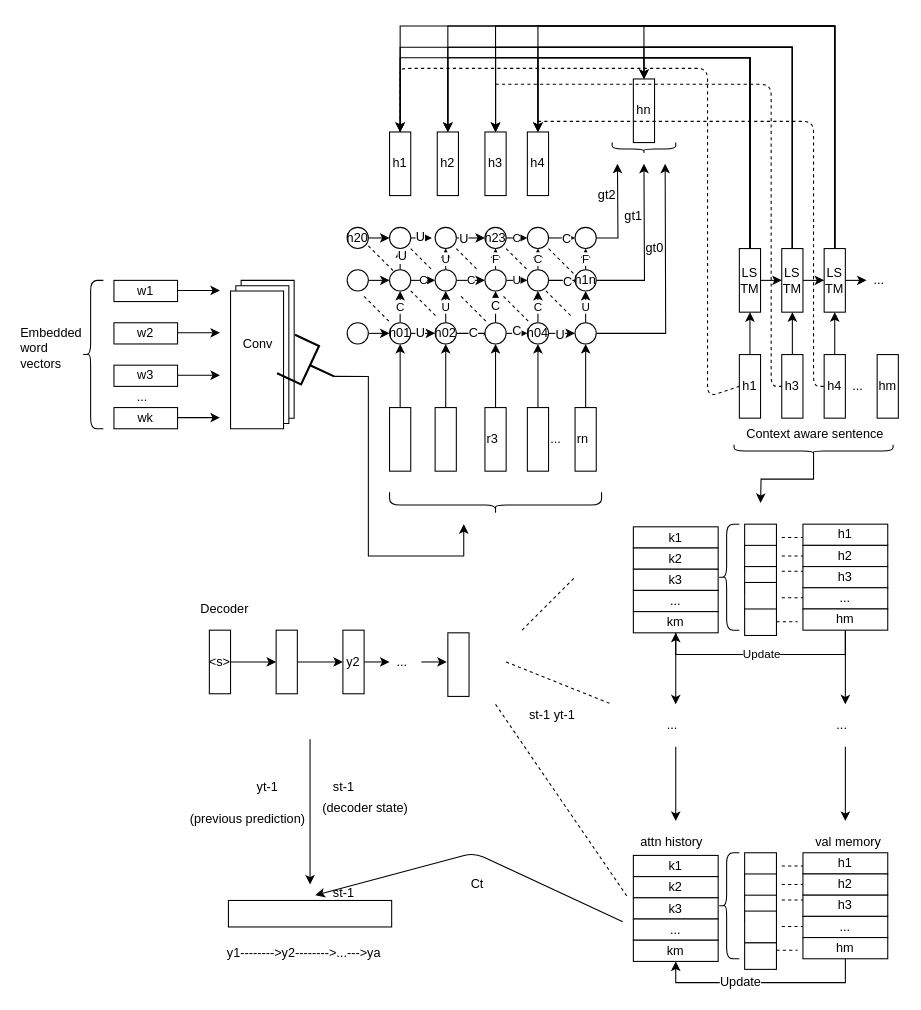
Some shapes in this 921 by 1010 pixel diagram are drawn without their labels. The centre of each missing label's shape, as x and y in pixels:
"Encoded sentence representation" belongs at point 495,502.
"h00" belongs at point 357,333.
"h03" belongs at point 495,333.
"h0n" belongs at point 585,333.
"h10" belongs at point 357,280.
"h11" belongs at point 399,280.
"h12" belongs at point 445,280.
"h13" belongs at point 495,280.
"h14" belongs at point 537,280.
"h21" belongs at point 399,237.
"h22" belongs at point 445,237.
"h24" belongs at point 537,237.
"h2n" belongs at point 585,237.
"r1" belongs at point 399,439.
"r2" belongs at point 445,439.
"r4" belongs at point 537,439.
"Softmax" belongs at point 309,913.
"y1" belongs at point 286,661.
"ya-1" belongs at point 458,664.
